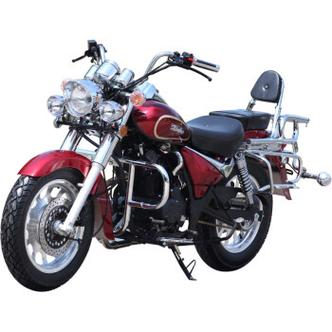摩托车: (1, 34, 332, 305)
